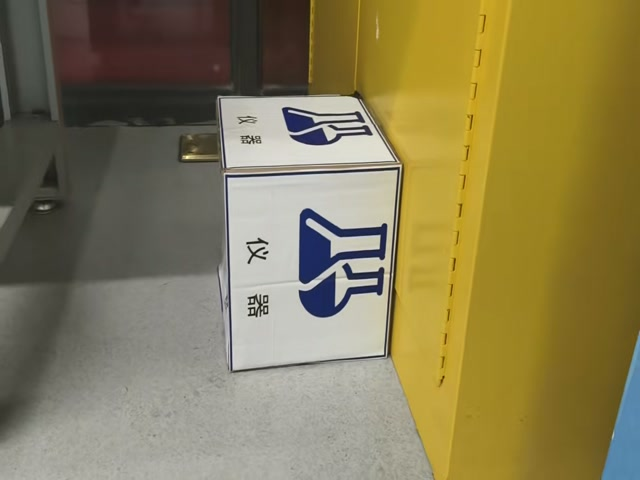Cube_ins: (213, 83, 403, 175)
